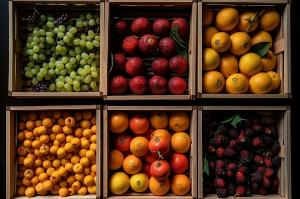grape: (8, 0, 102, 96)
orange: (104, 104, 194, 197), (199, 1, 287, 94)
strawberry: (198, 106, 289, 199)
